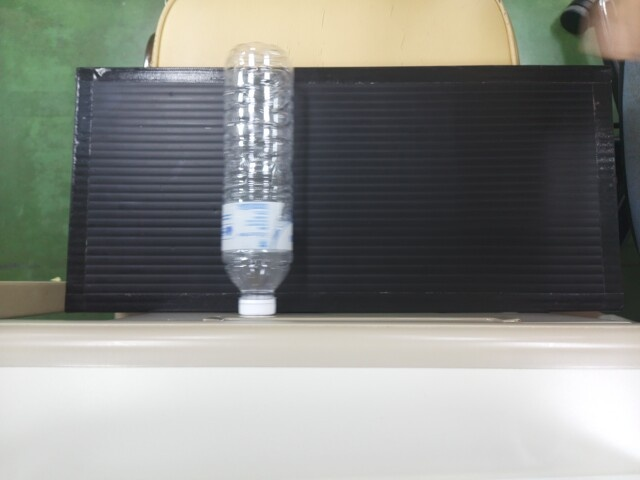plastic_bottle: (219, 43, 299, 310)
